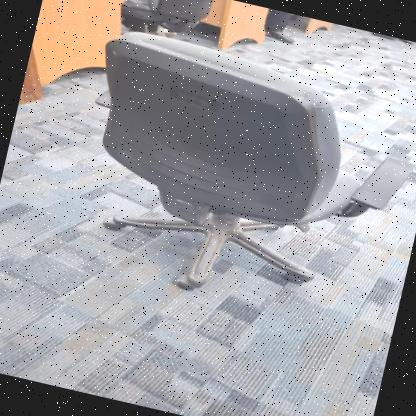chair: (50, 11, 416, 337)
